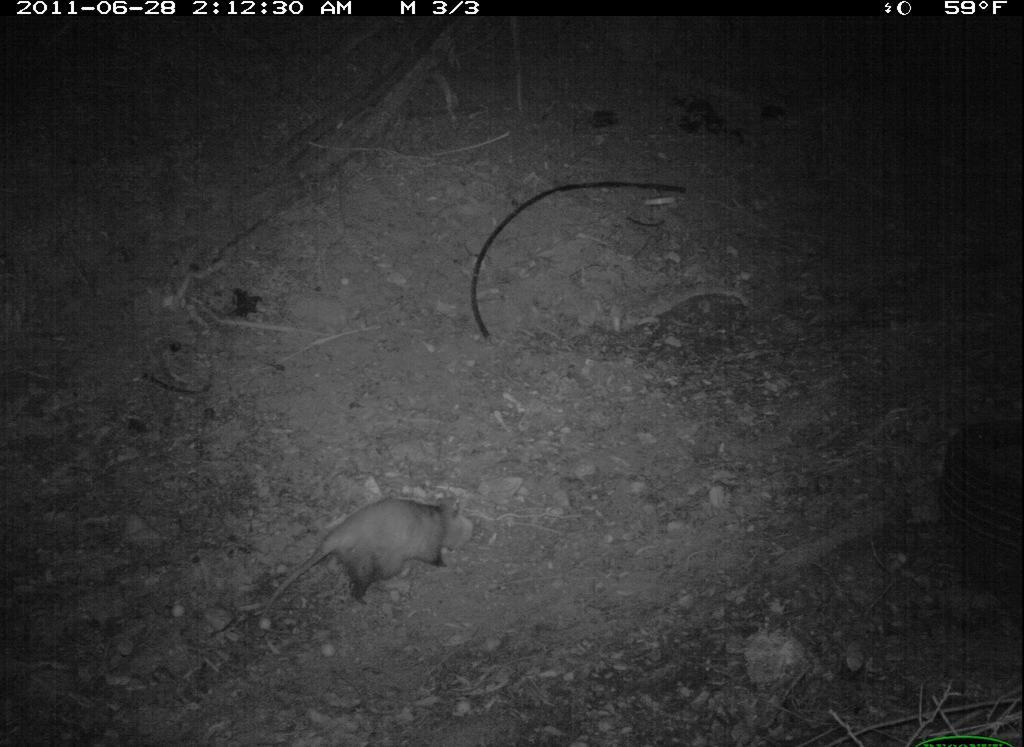opossum: (251, 486, 477, 619)
